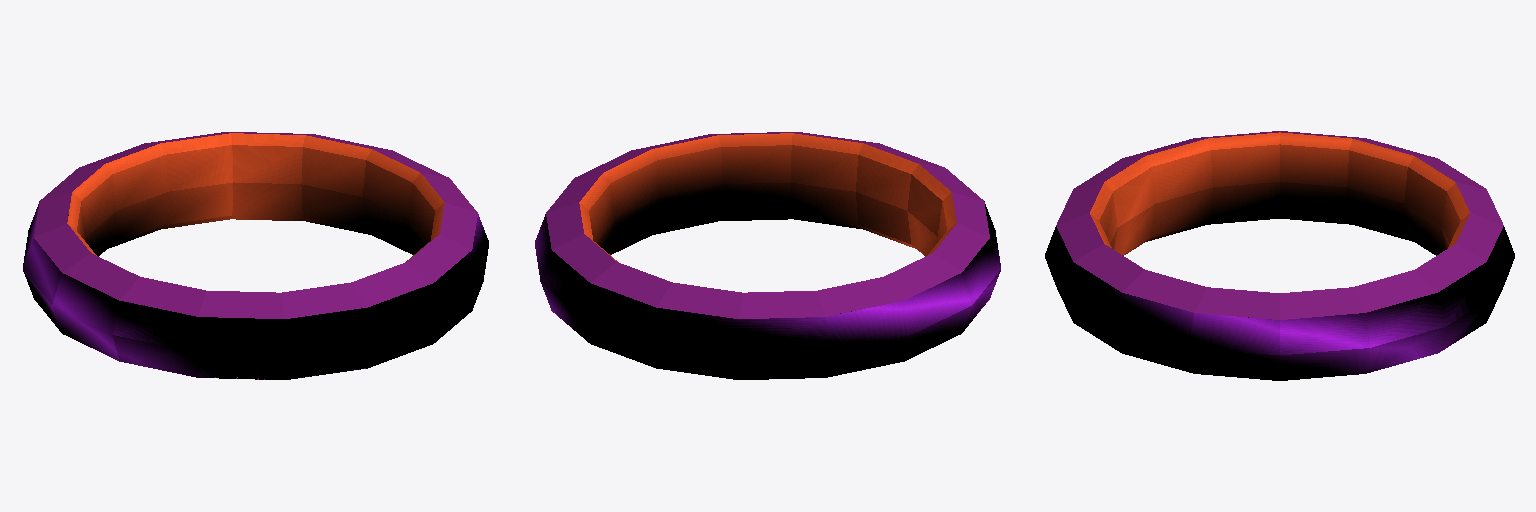
3 renders of one model, left to right at view 1: azimuth 30°, elevation 25°; view 2: azimuth 150°, elevation 25°; view 3: azimuth 270°, elevation 25°, orthographic.
Visible parts, largest first — view 1: Torus1; view 2: Torus1; view 3: Torus1.
Boxes of the visible parts, x1,y1,x2,y2 form: Torus1: [23, 132, 488, 379]; Torus1: [535, 132, 1000, 379]; Torus1: [1045, 131, 1514, 380].
Size of the model in its own units: 2.88 by 0.582 by 2.88.
1 materials, 1 textured.